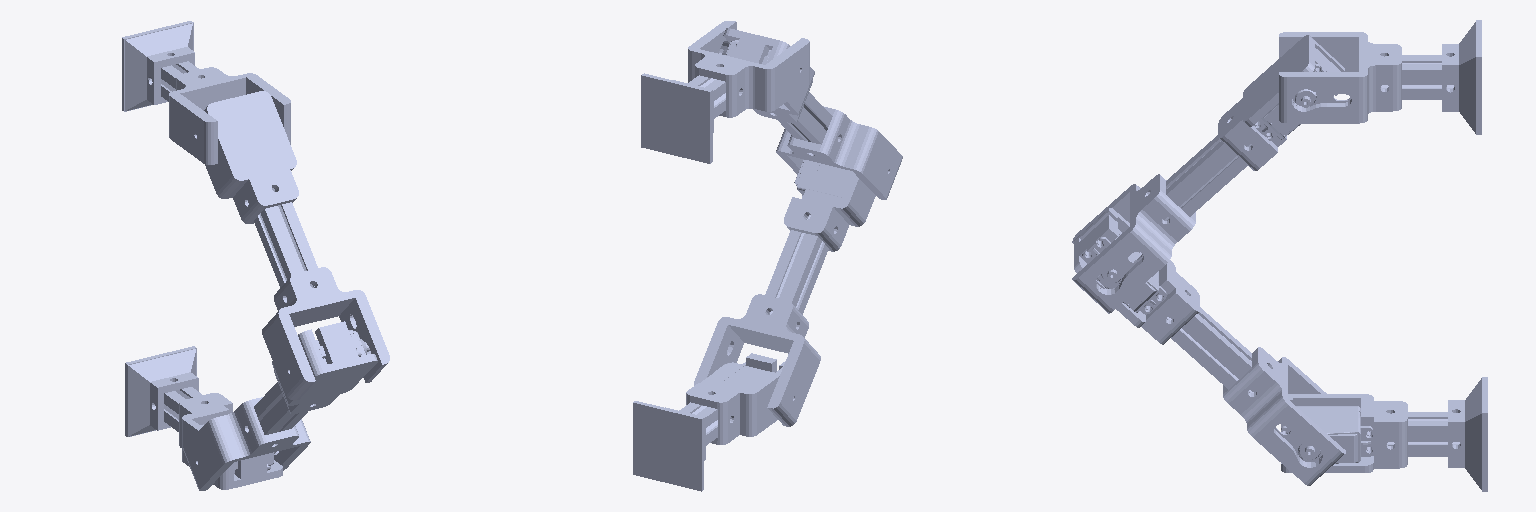
robot.urdf — First_Iteration_Assem:
<?xml version="1.0" encoding="utf-8"?>
<!-- This URDF was automatically created by SolidWorks to URDF Exporter! Originally created by [author] ([email redacted])
     Commit Version: 1.5.1-0-g916b5db  Build Version: 1.5.7152.31018
     For more information, please see http://wiki.ros.org/sw_urdf_exporter -->
<robot
  name="First_Iteration_Assem">
  <link
    name="base_link">
    <inertial>
      <origin
        xyz="-0.00167670814824843 -0.00124913688864695 0.064051820417217"
        rpy="0 0 0" />
      <mass
        value="0.106288836388757" />
      <inertia
        ixx="3.790587396713E-05"
        ixy="9.22309781853357E-07"
        ixz="1.67520759799362E-06"
        iyy="4.37509049186189E-05"
        iyz="1.20055006036103E-06"
        izz="2.53300051017029E-05" />
    </inertial>
    <visual>
      <origin
        xyz="0 0 0"
        rpy="0 0 0" />
      <geometry>
        <mesh
          filename="package://First_Iteration_Assem/meshes/base_link.STL" />
      </geometry>
      <material
        name="">
        <color
          rgba="0.792156862745098 0.819607843137255 0.933333333333333 1" />
      </material>
    </visual>
    <collision>
      <origin
        xyz="0 0 0"
        rpy="0 0 0" />
      <geometry>
        <mesh
          filename="package://First_Iteration_Assem/meshes/base_link.STL" />
      </geometry>
    </collision>
  </link>
  <link
    name="link_1">
    <inertial>
      <origin
        xyz="0.00329739815117274 -0.00108860830320483 -0.102291024294627"
        rpy="0 0 0" />
      <mass
        value="0.121962443664621" />
      <inertia
        ixx="5.58178420764541E-05"
        ixy="-9.31454556410247E-07"
        ixz="5.24300378590278E-07"
        iyy="7.68887077767689E-05"
        iyz="-5.32795935461739E-07"
        izz="3.79924823666446E-05" />
    </inertial>
    <visual>
      <origin
        xyz="0 0 0"
        rpy="0 0 0" />
      <geometry>
        <mesh
          filename="package://First_Iteration_Assem/meshes/link_1.STL" />
      </geometry>
      <material
        name="">
        <color
          rgba="0.792156862745098 0.819607843137255 0.933333333333333 1" />
      </material>
    </visual>
    <collision>
      <origin
        xyz="0 0 0"
        rpy="0 0 0" />
      <geometry>
        <mesh
          filename="package://First_Iteration_Assem/meshes/link_1.STL" />
      </geometry>
    </collision>
  </link>
  <joint
    name="joint_1"
    type="continuous">
    <origin
      xyz="0 -0.10478 -0.0002"
      rpy="2.3309 0 3.1416" />
    <parent
      link="base_link" />
    <child
      link="link_1" />
    <axis
      xyz="1 0 0" />
      <!-- <limit
        lower="0"
        upper="0"
        effort="0"
        velocity="0" /> -->
  </joint>
  <link
    name="link_2">
    <inertial>
      <origin
        xyz="0.0264753506563623 0.000698588706811026 -0.101410075698466"
        rpy="0 0 0" />
      <mass
        value="0.121962443652196" />
      <inertia
        ixx="5.58178420730298E-05"
        ixy="-9.22310577651571E-07"
        ixz="5.40223726957375E-07"
        iyy="7.68589276142313E-05"
        iyz="-1.20055002970277E-06"
        izz="3.80222625225677E-05" />
    </inertial>
    <visual>
      <origin
        xyz="0 0 0"
        rpy="0 0 0" />
      <geometry>
        <mesh
          filename="package://First_Iteration_Assem/meshes/link_2.STL" />
      </geometry>
      <material
        name="">
        <color
          rgba="0.792156862745098 0.819607843137255 0.933333333333333 1" />
      </material>
    </visual>
    <collision>
      <origin
        xyz="0 0 0"
        rpy="0 0 0" />
      <geometry>
        <mesh
          filename="package://First_Iteration_Assem/meshes/link_2.STL" />
      </geometry>
    </collision>
  </link>
  <joint
    name="joint_2"
    type="continuous">
    <origin
      xyz="-0.02165 0 -0.16328"
      rpy="1.5892 0 0" />
    <parent
      link="link_1" />
    <child
      link="link_2" />
    <axis
      xyz="-1 0 0" />
    <!-- <limit
        lower="0"
        upper="0"
        effort="0"
        velocity="0" /> -->
  </joint>
  <link
    name="link_3">
    <inertial>
      <origin
        xyz="0.000881125443796671 -0.055705552139542 -3.1641356201817E-15"
        rpy="0 0 0" />
      <mass
        value="0.0742125648272151" />
      <inertia
        ixx="2.72135201538739E-05"
        ixy="-1.13499847698934E-06"
        ixz="-6.35192694236914E-20"
        iyy="3.21039471722149E-05"
        iyz="-2.37439894783956E-21"
        izz="4.24100906081661E-05" />
    </inertial>
    <visual>
      <origin
        xyz="0 0 0"
        rpy="0 0 0" />
      <geometry>
        <mesh
          filename="package://First_Iteration_Assem/meshes/link_3.STL" />
      </geometry>
      <material
        name="">
        <color
          rgba="0.792156862745098 0.819607843137255 0.933333333333333 1" />
      </material>
    </visual>
    <collision>
      <origin
        xyz="0 0 0"
        rpy="0 0 0" />
      <geometry>
        <mesh
          filename="package://First_Iteration_Assem/meshes/link_3.STL" />
      </geometry>
    </collision>
  </link>
  <joint
    name="joint_3"
    type="continuous">
    <origin
      xyz="0.02595 0 -0.16537"
      rpy="2.3631 0 0" />
    <parent
      link="link_2" />
    <child
      link="link_3" />
    <axis
      xyz="-1 0 0" />
      <!-- <limit
        lower="0"
        upper="0"
        effort="0"
        velocity="0" /> -->
  </joint>
</robot>

--- Render facts (derived) ---
The picture shows the robot from 3 angles, left to right: view 1: azimuth 30°, elevation 25°; view 2: azimuth 150°, elevation 25°; view 3: azimuth 270°, elevation 25°; orthographic projection.
Model First_Iteration_Assem with 4 links and 3 joints (3 continuous), rooted at base_link, posed all joints at 0.
Visible links, largest first — view 1: link_2, link_1, link_3, base_link; view 2: link_1, link_3, base_link, link_2; view 3: link_2, link_1, link_3, base_link.
Boxes of the visible links, x1,y1,x2,y2 form: link_2: [204, 91, 389, 400]; link_1: [183, 321, 377, 490]; link_3: [122, 21, 290, 164]; base_link: [125, 346, 282, 489]; link_1: [694, 160, 875, 426]; link_3: [641, 21, 809, 163]; base_link: [633, 353, 785, 491]; link_2: [719, 28, 902, 199]; link_2: [1072, 35, 1344, 313]; link_1: [1074, 208, 1345, 485]; link_3: [1279, 20, 1481, 134]; base_link: [1281, 377, 1487, 491].
Size in the robot's own frame: 0.0665 by 0.245 by 0.2808 metres.
4 mesh visuals loaded from 4 distinct referenced files (4 binary STL).
